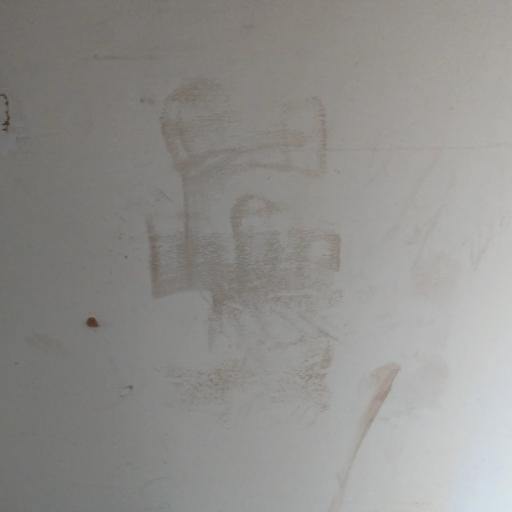stain: (112, 37, 350, 431), (368, 99, 512, 294), (333, 343, 397, 512), (0, 66, 19, 152), (74, 307, 112, 339)
